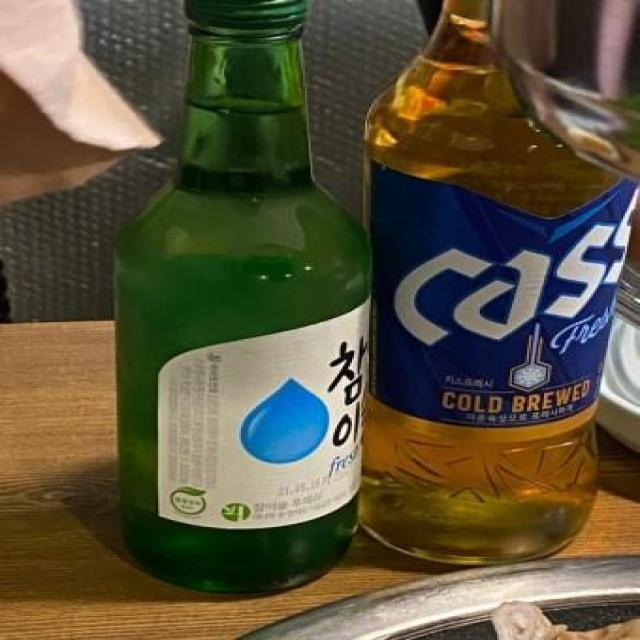beer-bottle: (365, 0, 640, 578)
soju-bottle: (85, 0, 368, 592)
